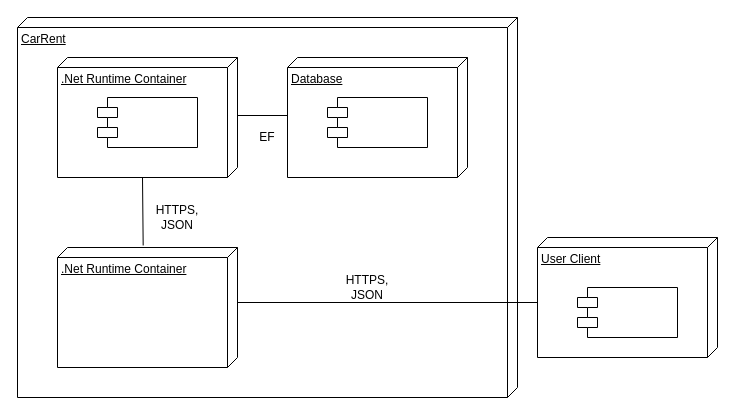
This 735x415 diagram has some shape labels left out. Here are the shapes that lost their labels. From the top down, the centre of each, then its label:
At [147,122]: "API CarRent".
At [377,122]: "SQL Server".
At [627,312]: "Browser".
